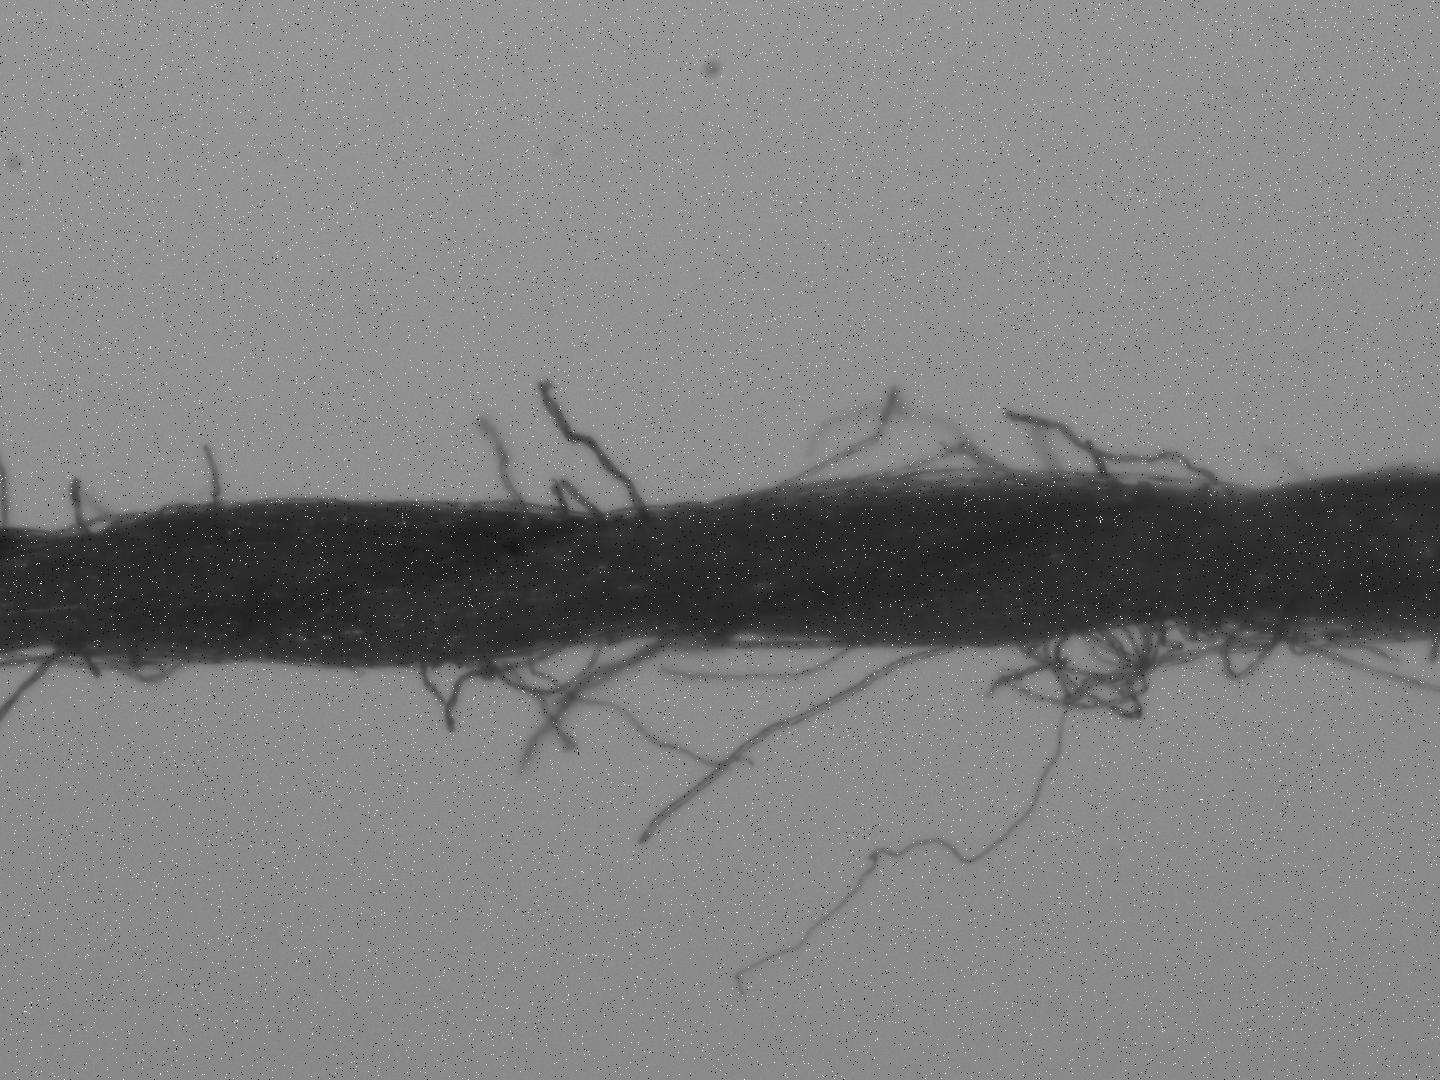loop_fiber: (1051, 617, 1154, 686), (485, 644, 610, 698), (1221, 615, 1290, 683), (705, 630, 862, 652), (100, 652, 183, 687), (56, 509, 149, 540)
protruding_fiber: (636, 640, 960, 851), (1007, 404, 1235, 489), (543, 380, 650, 514), (476, 414, 532, 517), (200, 438, 223, 512)
